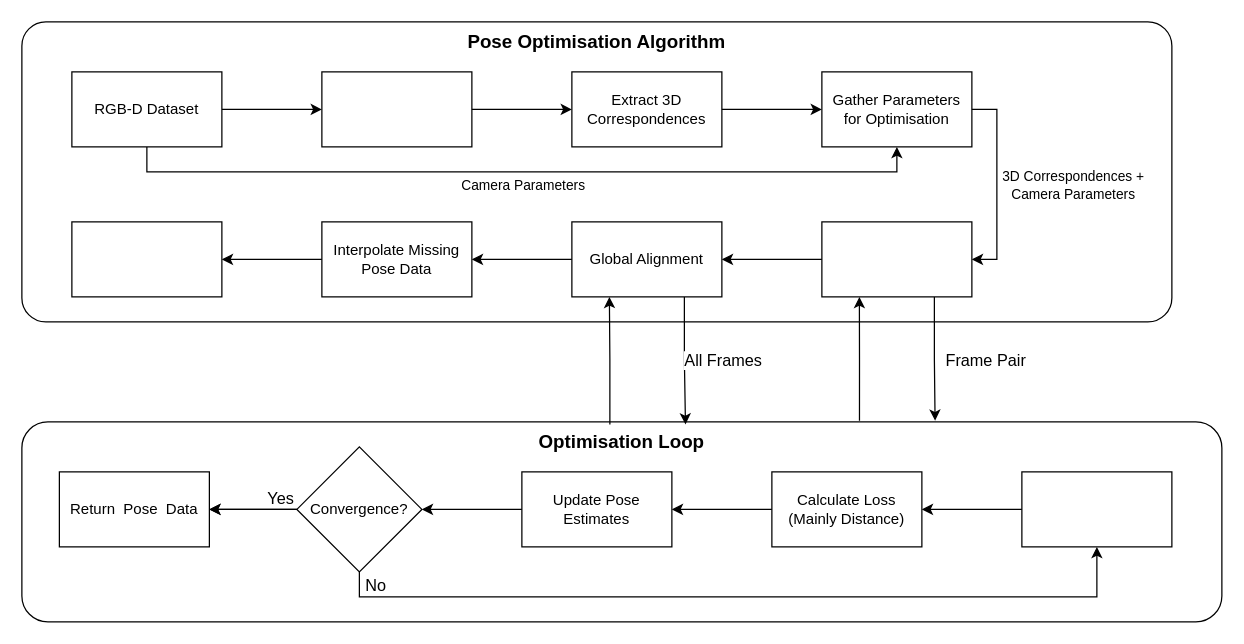
Image size: 1244x644. Some labels were removed from this diagram. Each missing label, with the centre of its shape:
Local Alignment: point (896, 259)
Project Correspondences: point (1096, 509)
Sample Frame Pairs: point (396, 109)
Take Inverse of Poses for TSDF Fusion: point (146, 259)
